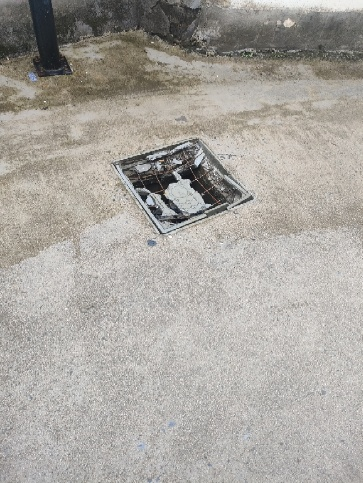broke: (111, 137, 254, 235)
